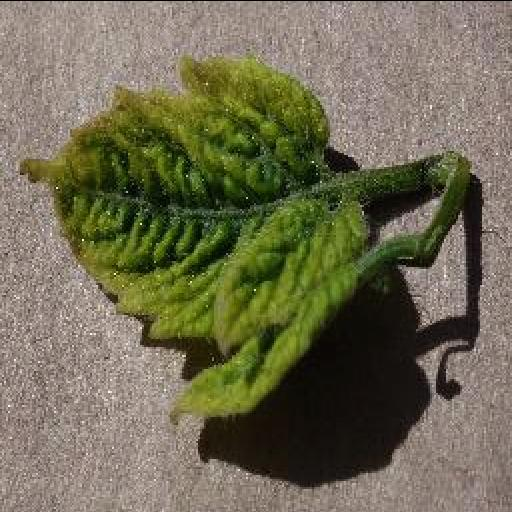disease_tomato: (14, 58, 372, 424)
